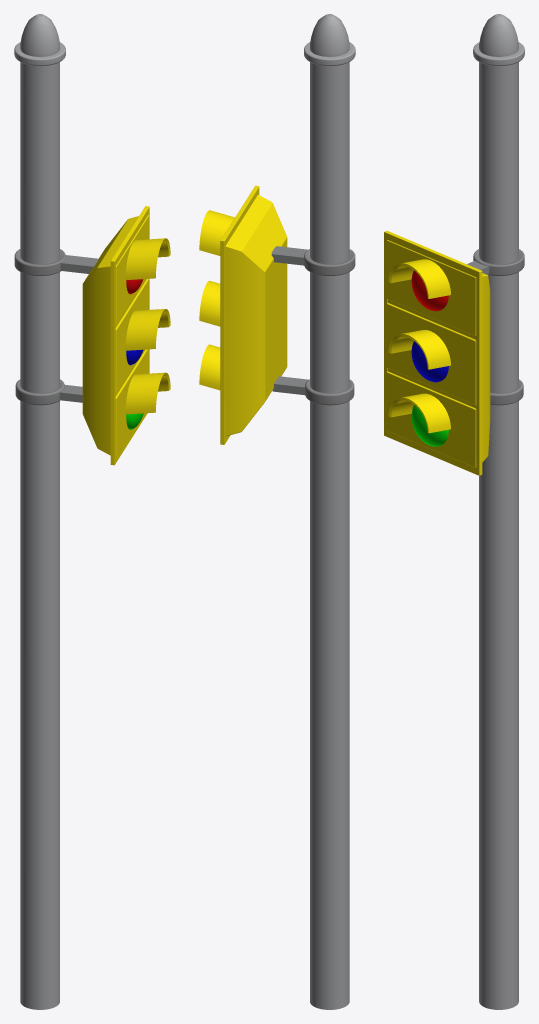
Rendered from Studio Traffic Light.fbx.
3 views of the same model, side by side, from view 1: azimuth 30°, elevation 25°; view 2: azimuth 210°, elevation 25°; view 3: azimuth 270°, elevation 25° (orthographic).
Visible parts, largest first — view 1: Pole, Fixture, Fixture Back Plate, Pole_Mounts, Lense; view 2: Pole, Fixture, Pole_Mounts, Fixture Back Plate; view 3: Pole, Fixture, Fixture Back Plate, Lense, Pole_Mounts.
Boxes of the visible parts, bbox=[...] form: Pole: bbox=[14, 14, 65, 1009]; Fixture: bbox=[82, 215, 170, 456]; Fixture Back Plate: bbox=[110, 206, 149, 465]; Pole_Mounts: bbox=[14, 249, 98, 405]; Lense: bbox=[126, 279, 143, 429]; Pole: bbox=[304, 14, 355, 1009]; Fixture: bbox=[199, 195, 287, 436]; Pole_Mounts: bbox=[271, 246, 355, 405]; Fixture Back Plate: bbox=[220, 185, 259, 444]; Pole: bbox=[473, 14, 524, 1009]; Fixture: bbox=[387, 240, 490, 467]; Fixture Back Plate: bbox=[384, 230, 482, 475]; Lense: bbox=[411, 270, 448, 446]; Pole_Mounts: bbox=[467, 249, 524, 405].
Bounding box in the file's own units: 110 × 853 × 110.
